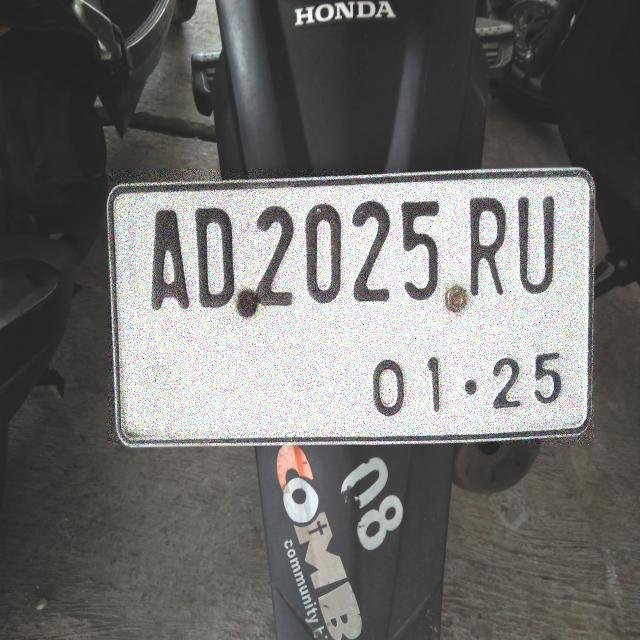plate: (109, 170, 593, 444)
